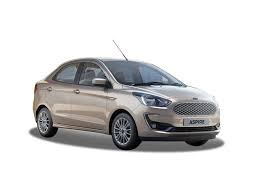Ford: (30, 56, 221, 151)
